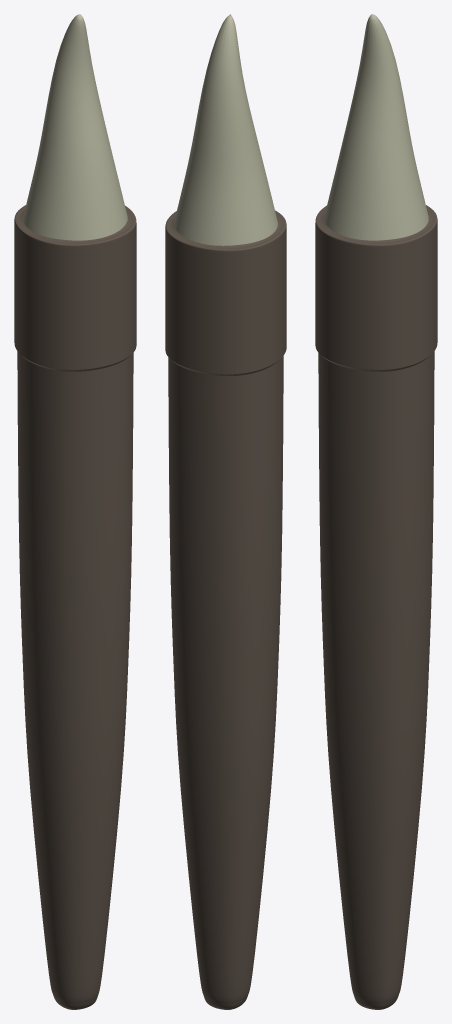
File: brush_desk.fbx
3 renders of one model, left to right at view 1: azimuth 30°, elevation 25°; view 2: azimuth 150°, elevation 25°; view 3: azimuth 330°, elevation 25°, orthographic.
Parts seen in each view (by area): view 1: brush; view 2: brush; view 3: brush.
Part boxes in pixels (<box>): brush: <box>14,14,136,1009</box>; brush: <box>165,14,286,1009</box>; brush: <box>315,14,437,1009</box>.
Size of the model in its own units: 19.58 by 179 by 19.58.
